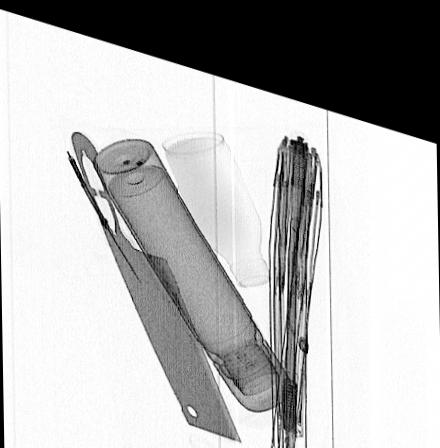Knife: (71, 124, 242, 426), (67, 145, 142, 273)
